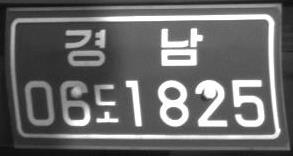0: (24, 79, 55, 127)
1: (123, 79, 147, 128)
2: (194, 79, 228, 128)
5: (231, 78, 265, 128)
6: (58, 79, 91, 127)
8: (157, 78, 190, 128)
경남_D: (64, 27, 204, 68)
도: (92, 82, 119, 124)
